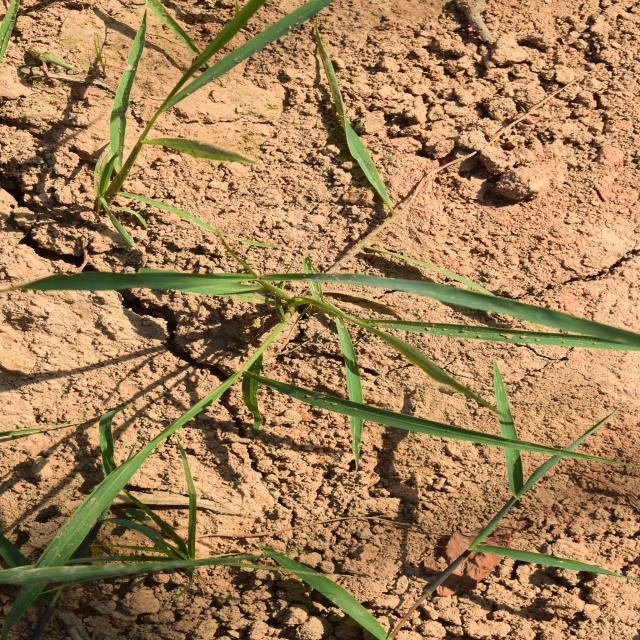green_foxtail: (175, 92, 428, 581), (388, 52, 640, 330)
